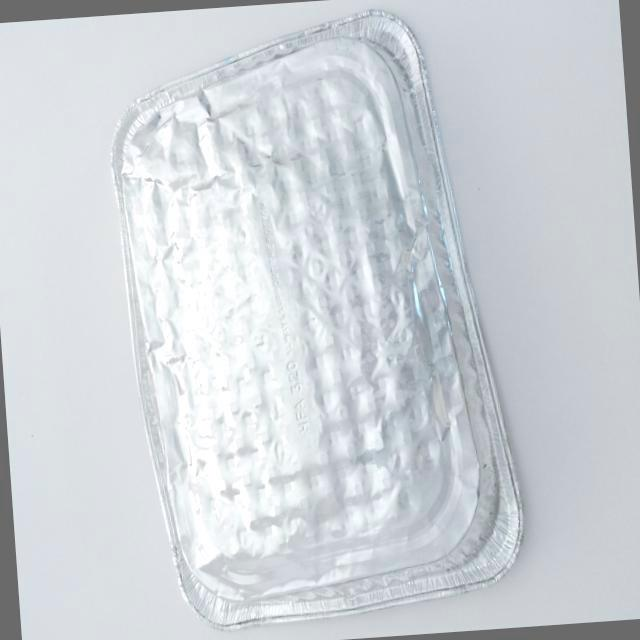metal: (81, 0, 560, 640)
